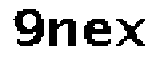9: (7, 4, 45, 52)
e: (81, 16, 114, 49)
n: (45, 12, 78, 51)
x: (115, 17, 147, 50)
